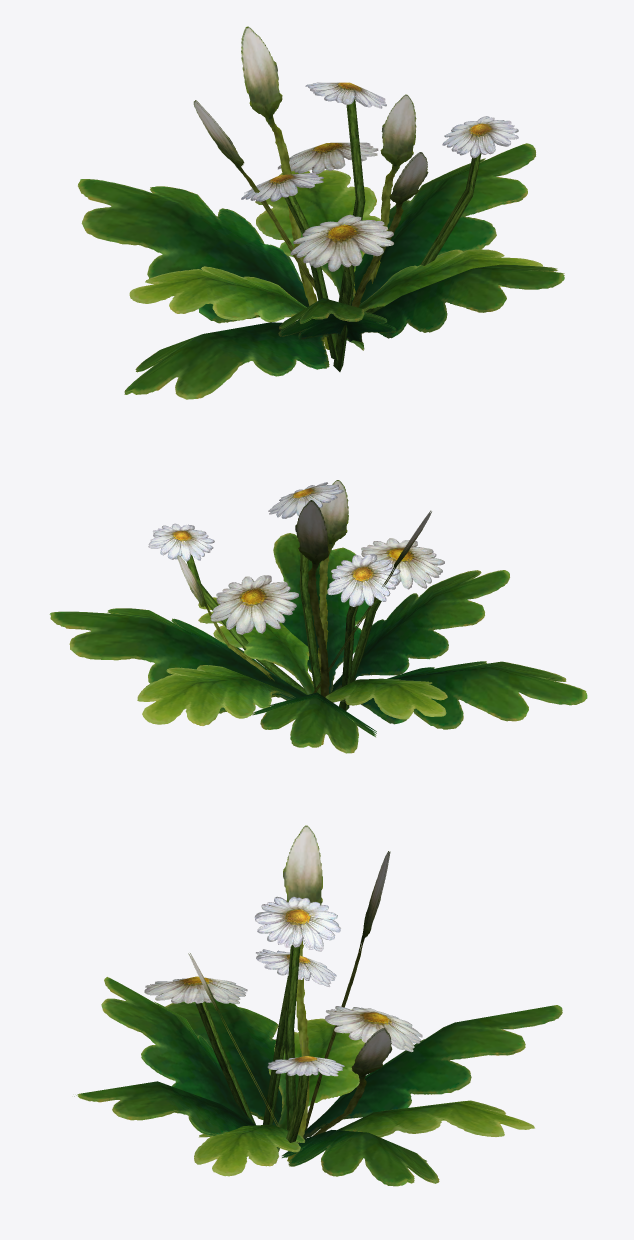
The model's file is guanmu_017.FBX.
3 views of the same model, one above another, from view 1: azimuth 30°, elevation 25°; view 2: azimuth 150°, elevation 25°; view 3: azimuth 270°, elevation 25° (orthographic). The views are drawn at different scales.
Parts seen in each view (by area): view 1: guanmu_017_01; view 2: guanmu_017_01; view 3: guanmu_017_01.
Boxes of the visible parts, <box> form: guanmu_017_01: <box>78,26,564,399</box>; guanmu_017_01: <box>49,480,587,753</box>; guanmu_017_01: <box>74,825,562,1186</box>.
Size of the model in its own units: 1.1 by 0.5683 by 0.9862.
